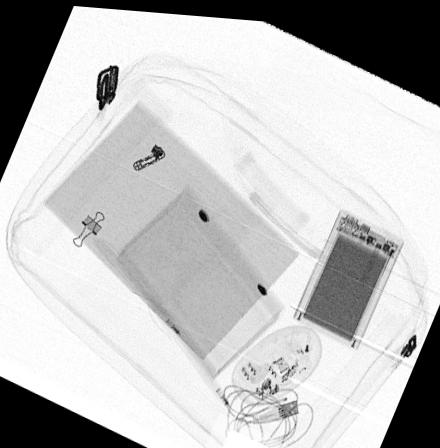Powerbank: (292, 203, 405, 345)
